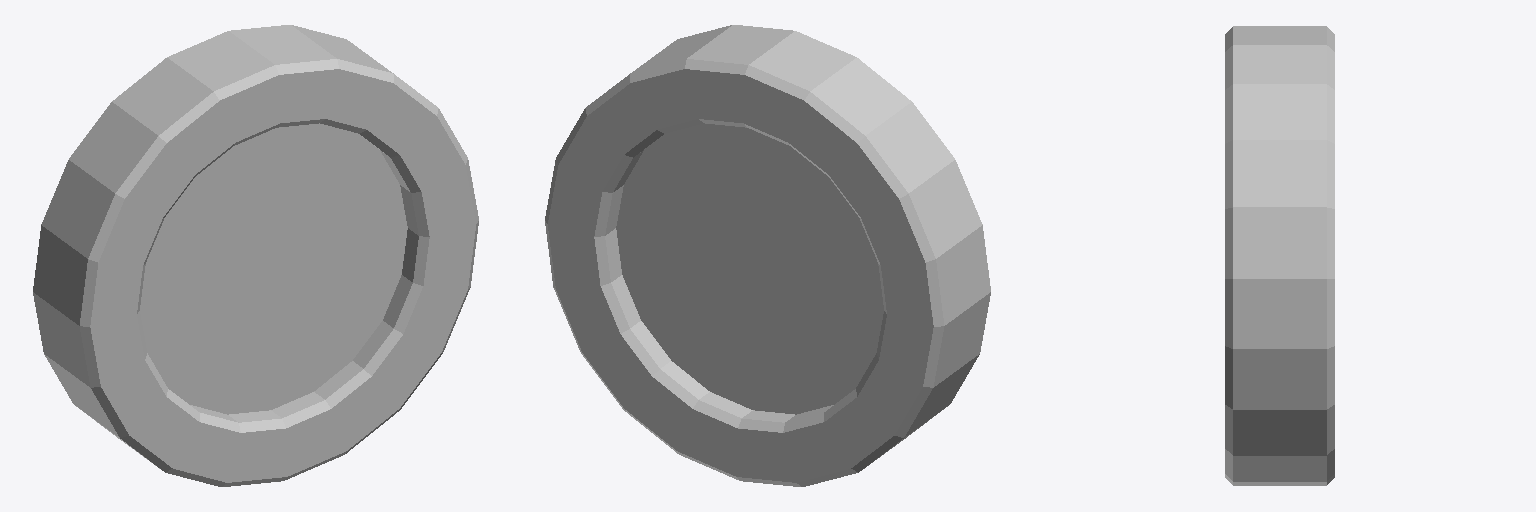
Rendered from coin.obj.
3 renders of one model, left to right at view 1: azimuth 30°, elevation 25°; view 2: azimuth 150°, elevation 25°; view 3: azimuth 270°, elevation 25°, orthographic.
Visible parts, largest first — view 1: Coin; view 2: Coin; view 3: Coin.
Boxes of the visible parts, box(x1,y1,x2,y2) form: Coin: box(33, 25, 478, 486); Coin: box(545, 25, 990, 486); Coin: box(1225, 26, 1334, 485).
Bounding box in the file's own units: 1.41 × 1.41 × 0.3335.